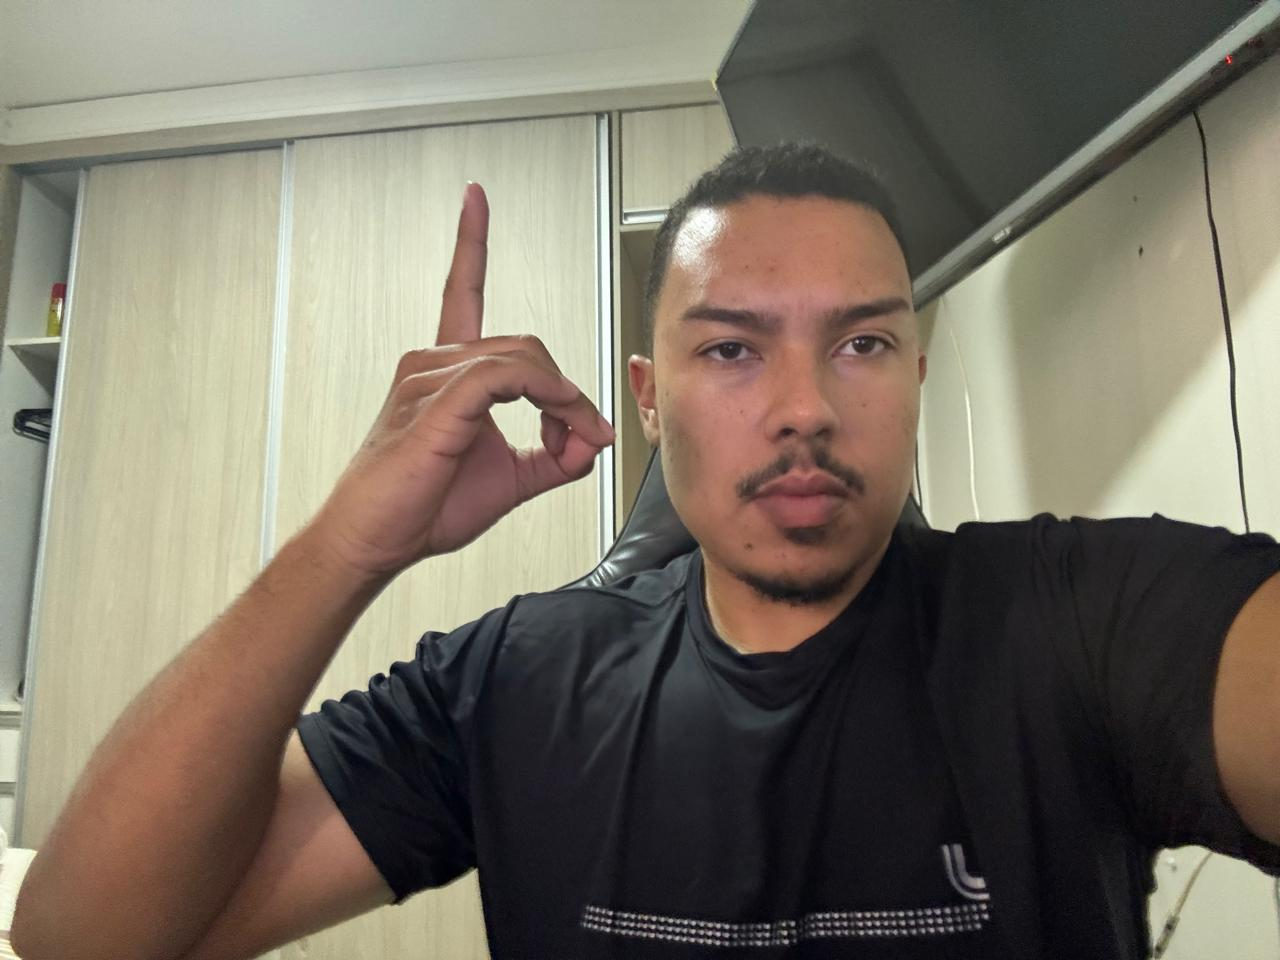d: (308, 169, 622, 595)
